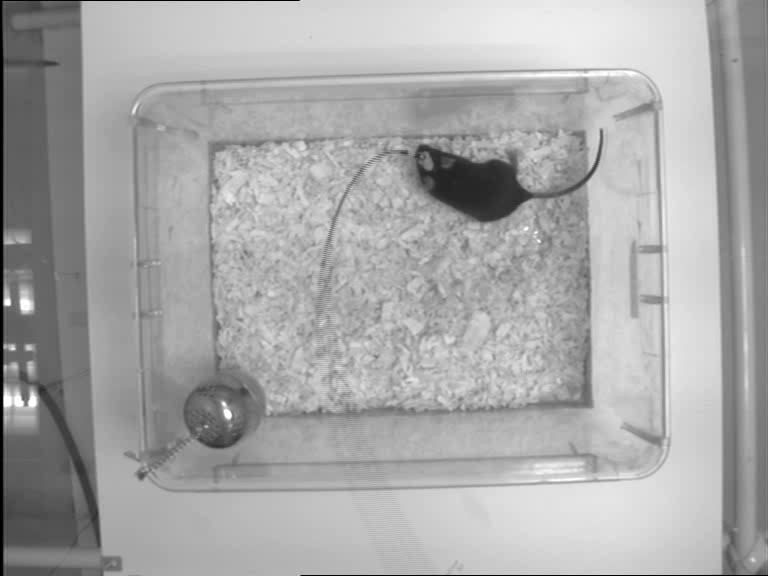mice: (416, 126, 609, 222)
